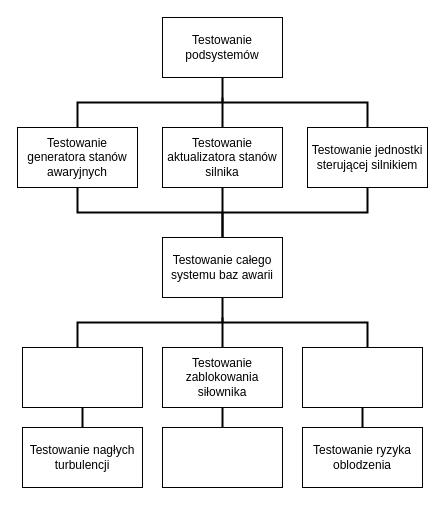
Some shapes in this 445 by 507 pixel diagram are drawn without their labels. Each missing label, with the centre of its shape:
"Testowanie awarii sensora" goes at pixel 82 377.
"Testowanie awarii śmigła" goes at pixel 362 377.
"Testowanie wessania obiektu" goes at pixel 222 457.
